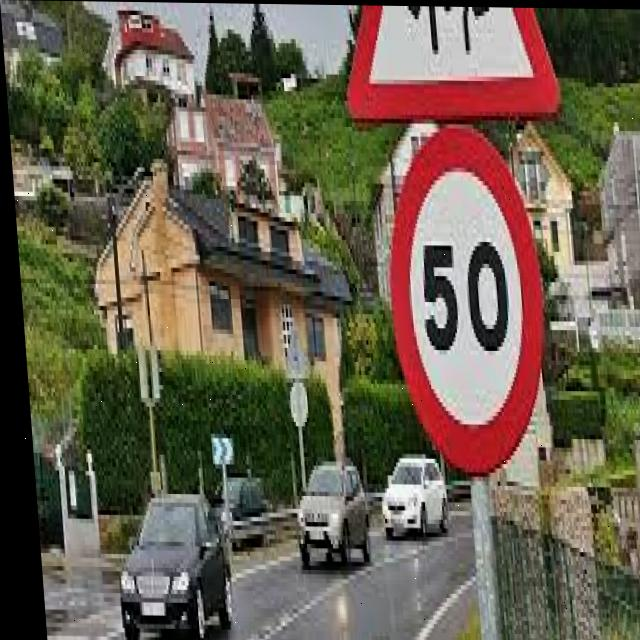Speed limit 50: (373, 118, 551, 477)
